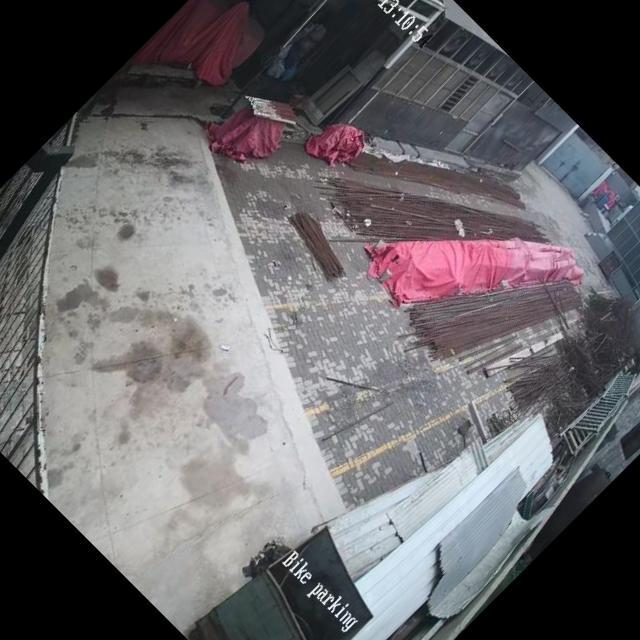person: (0, 202, 37, 368)
